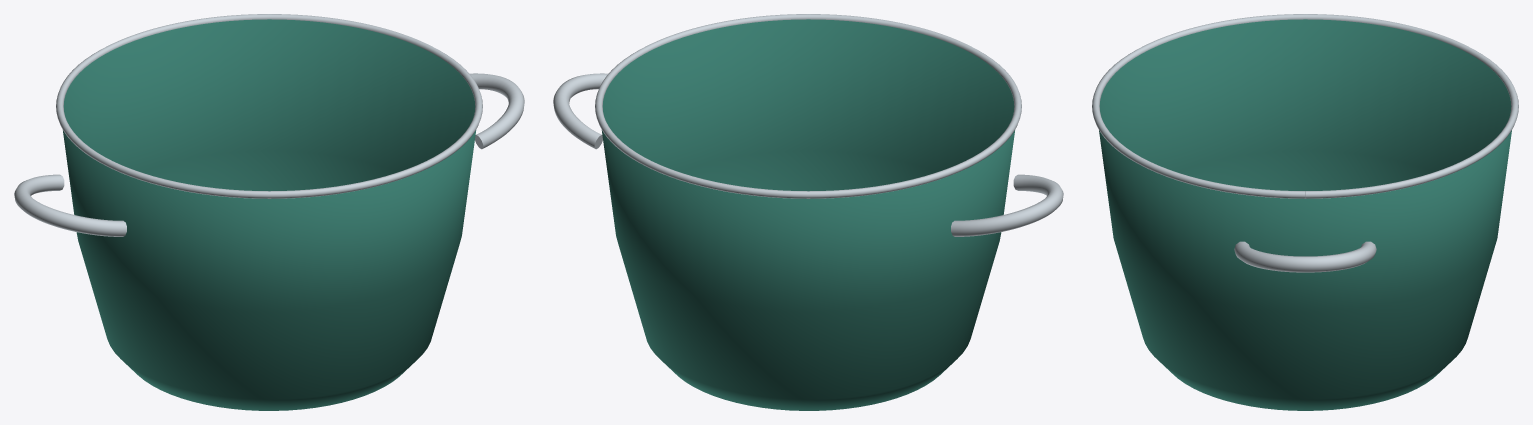
The model's file is Stockpot.glb.
3 renders of one model, left to right at view 1: azimuth 30°, elevation 25°; view 2: azimuth 150°, elevation 25°; view 3: azimuth 270°, elevation 25°, orthographic.
Visible parts, largest first — view 1: Vessel.001, Finished rim.001, Loop handle.002, Loop handle.003; view 2: Vessel.001, Finished rim.001, Loop handle.002, Loop handle.003; view 3: Vessel.001, Finished rim.001, Loop handle.003.
Boxes of the visible parts, x1=… form: Vessel.001: x1=63, y1=19, x2=476, y2=410; Finished rim.001: x1=56, y1=14, x2=482, y2=198; Loop handle.002: x1=14, y1=174, x2=126, y2=236; Loop handle.003: x1=470, y1=73, x2=524, y2=149; Vessel.001: x1=601, y1=19, x2=1014, y2=410; Finished rim.001: x1=595, y1=14, x2=1021, y2=198; Loop handle.002: x1=951, y1=174, x2=1063, y2=236; Loop handle.003: x1=553, y1=73, x2=607, y2=149; Vessel.001: x1=1099, y1=19, x2=1511, y2=410; Finished rim.001: x1=1092, y1=14, x2=1518, y2=198; Loop handle.003: x1=1234, y1=241, x2=1376, y2=272.
Size of the model in its own units: 0.2797 by 0.1338 by 0.2098.
